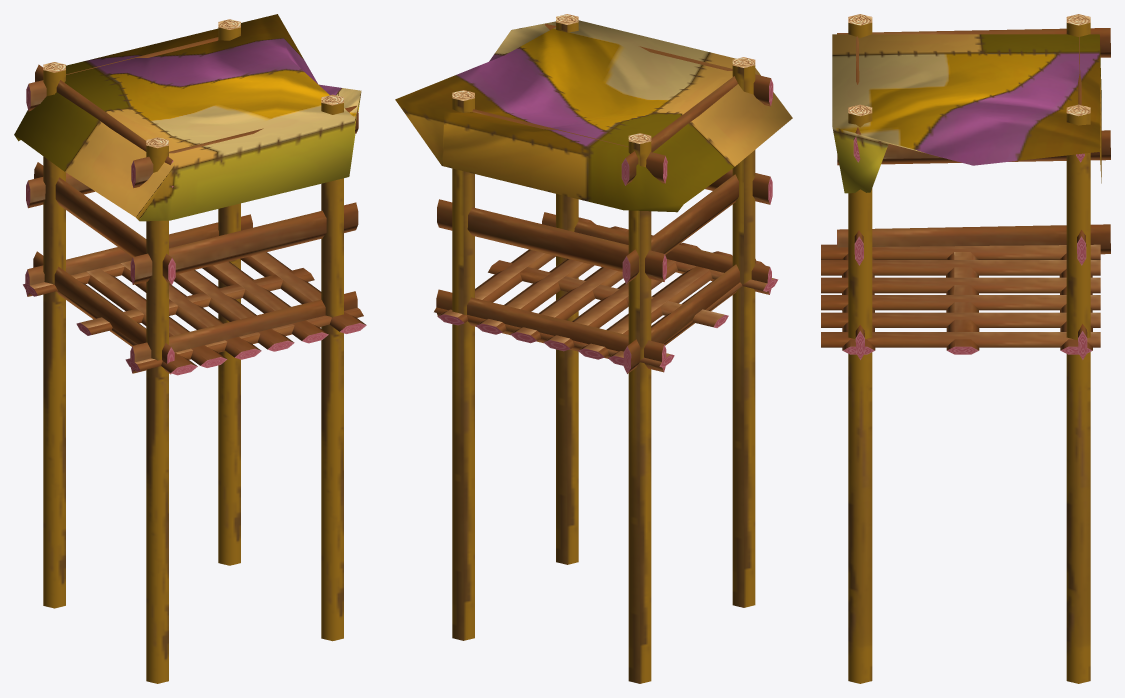
File: tower1.FBX
The picture shows the model from 3 angles, left to right: view 1: azimuth 30°, elevation 25°; view 2: azimuth 150°, elevation 25°; view 3: azimuth 270°, elevation 25°; orthographic projection. The views are drawn at different scales.
Parts seen in each view (by area): view 1: Plane001; view 2: Plane001; view 3: Plane001.
Boxes of the visible parts, x1,y1,x2,y2 form: Plane001: (14,14,366,683); Plane001: (395,14,792,683); Plane001: (821,14,1110,683).
Size of the model in its own units: 80.67 by 150 by 69.45.
